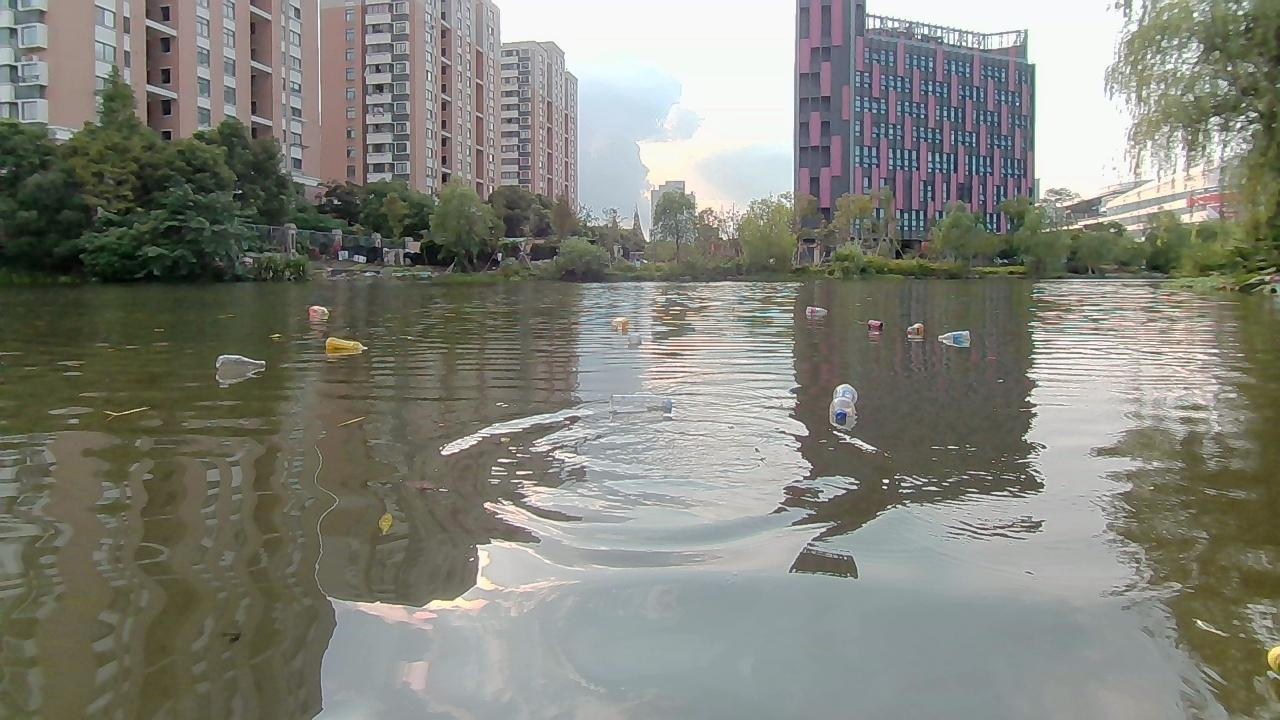Plastic: (827, 383, 858, 428), (610, 393, 674, 413), (215, 353, 268, 372), (324, 335, 370, 352), (307, 302, 331, 322), (937, 329, 971, 343), (906, 321, 925, 339), (610, 316, 630, 331), (805, 305, 829, 317), (867, 318, 883, 330)
